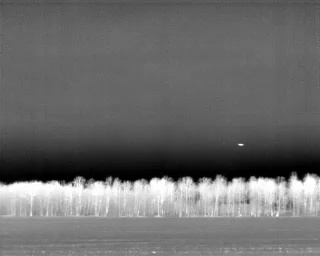DRONE: (235, 139, 247, 150)
